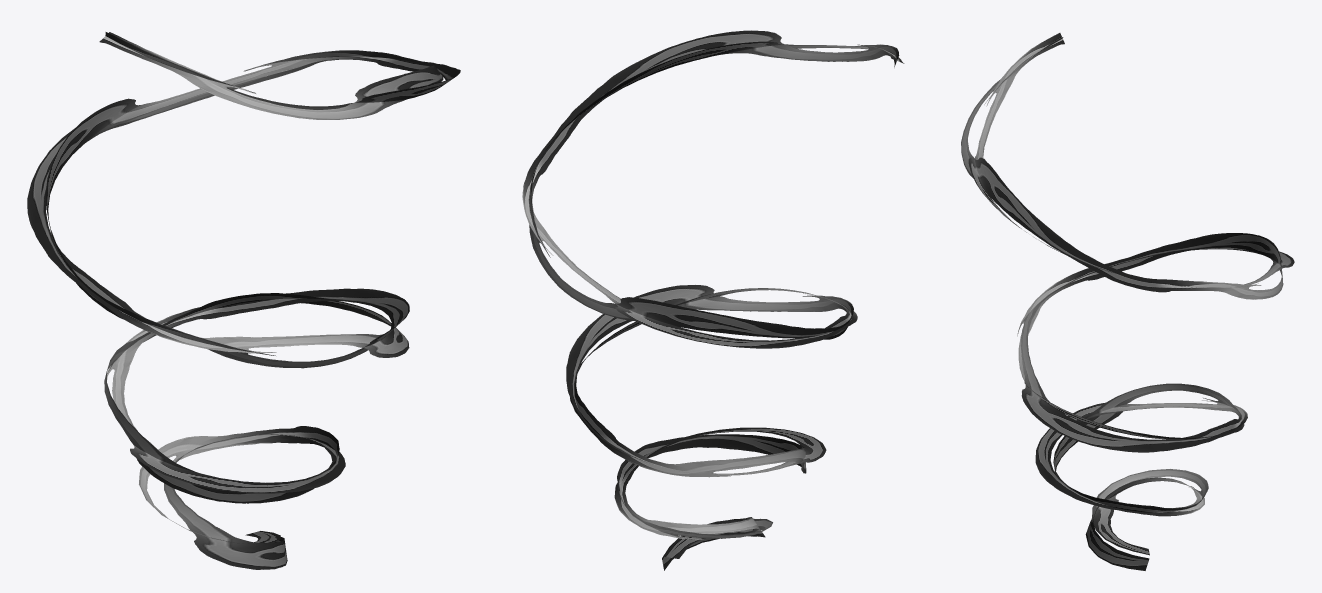
Rendered from L34_tyd_plane_023.FBX.
3 views of the same model, side by side, from view 1: azimuth 30°, elevation 25°; view 2: azimuth 150°, elevation 25°; view 3: azimuth 270°, elevation 25° (orthographic). The views are drawn at different scales.
Visible parts, largest first — view 1: L34_tyd_plane_009; view 2: L34_tyd_plane_009; view 3: L34_tyd_plane_009.
Boxes of the visible parts, box(x1,y1,x2,y2) form: L34_tyd_plane_009: box(27, 32, 460, 569); L34_tyd_plane_009: box(522, 30, 904, 570); L34_tyd_plane_009: box(961, 33, 1294, 570).
Bounding box in the file's own units: 6.48 × 9.79 × 6.49.
